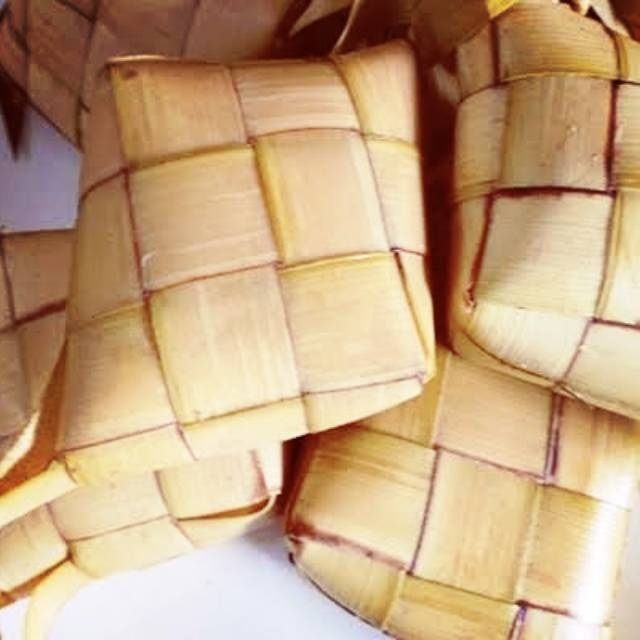ketupat: (43, 37, 435, 486)
